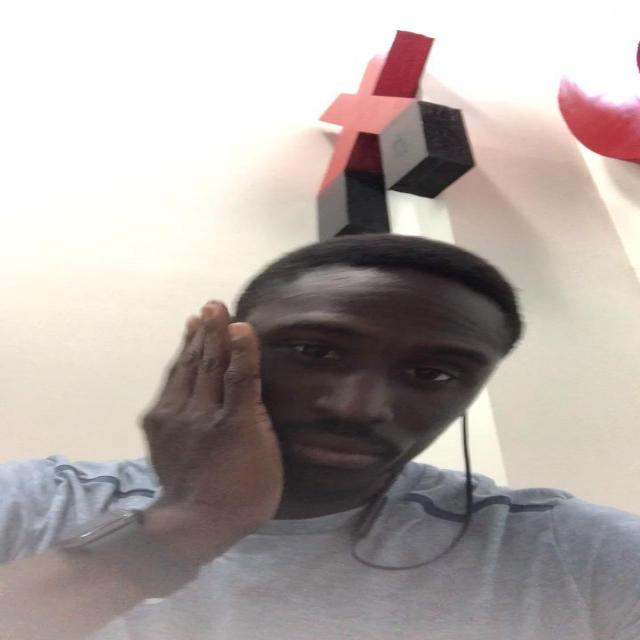face: (222, 295, 509, 495)
